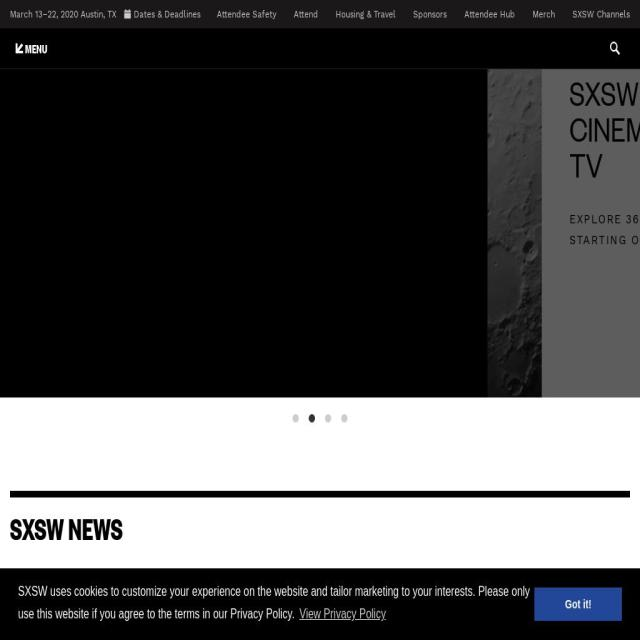button: (25, 93, 273, 145), (0, 385, 640, 402), (534, 587, 622, 621), (297, 601, 388, 627), (10, 35, 53, 62), (610, 41, 620, 55)
heading: (25, 75, 273, 214), (10, 511, 630, 545)
image: (0, 70, 640, 398), (202, 69, 640, 401), (10, 571, 204, 640), (223, 571, 417, 640), (436, 571, 630, 640), (610, 41, 620, 55), (124, 9, 131, 19), (16, 44, 23, 54), (292, 414, 298, 424), (309, 414, 315, 424), (325, 414, 331, 424), (342, 414, 348, 424)
link: (25, 172, 203, 214), (336, 8, 396, 20), (217, 8, 276, 20), (572, 8, 630, 20), (464, 8, 515, 20), (413, 8, 447, 20), (294, 8, 318, 20), (533, 8, 555, 20)
text: (18, 583, 530, 621), (10, 6, 116, 22), (23, 39, 48, 58)
